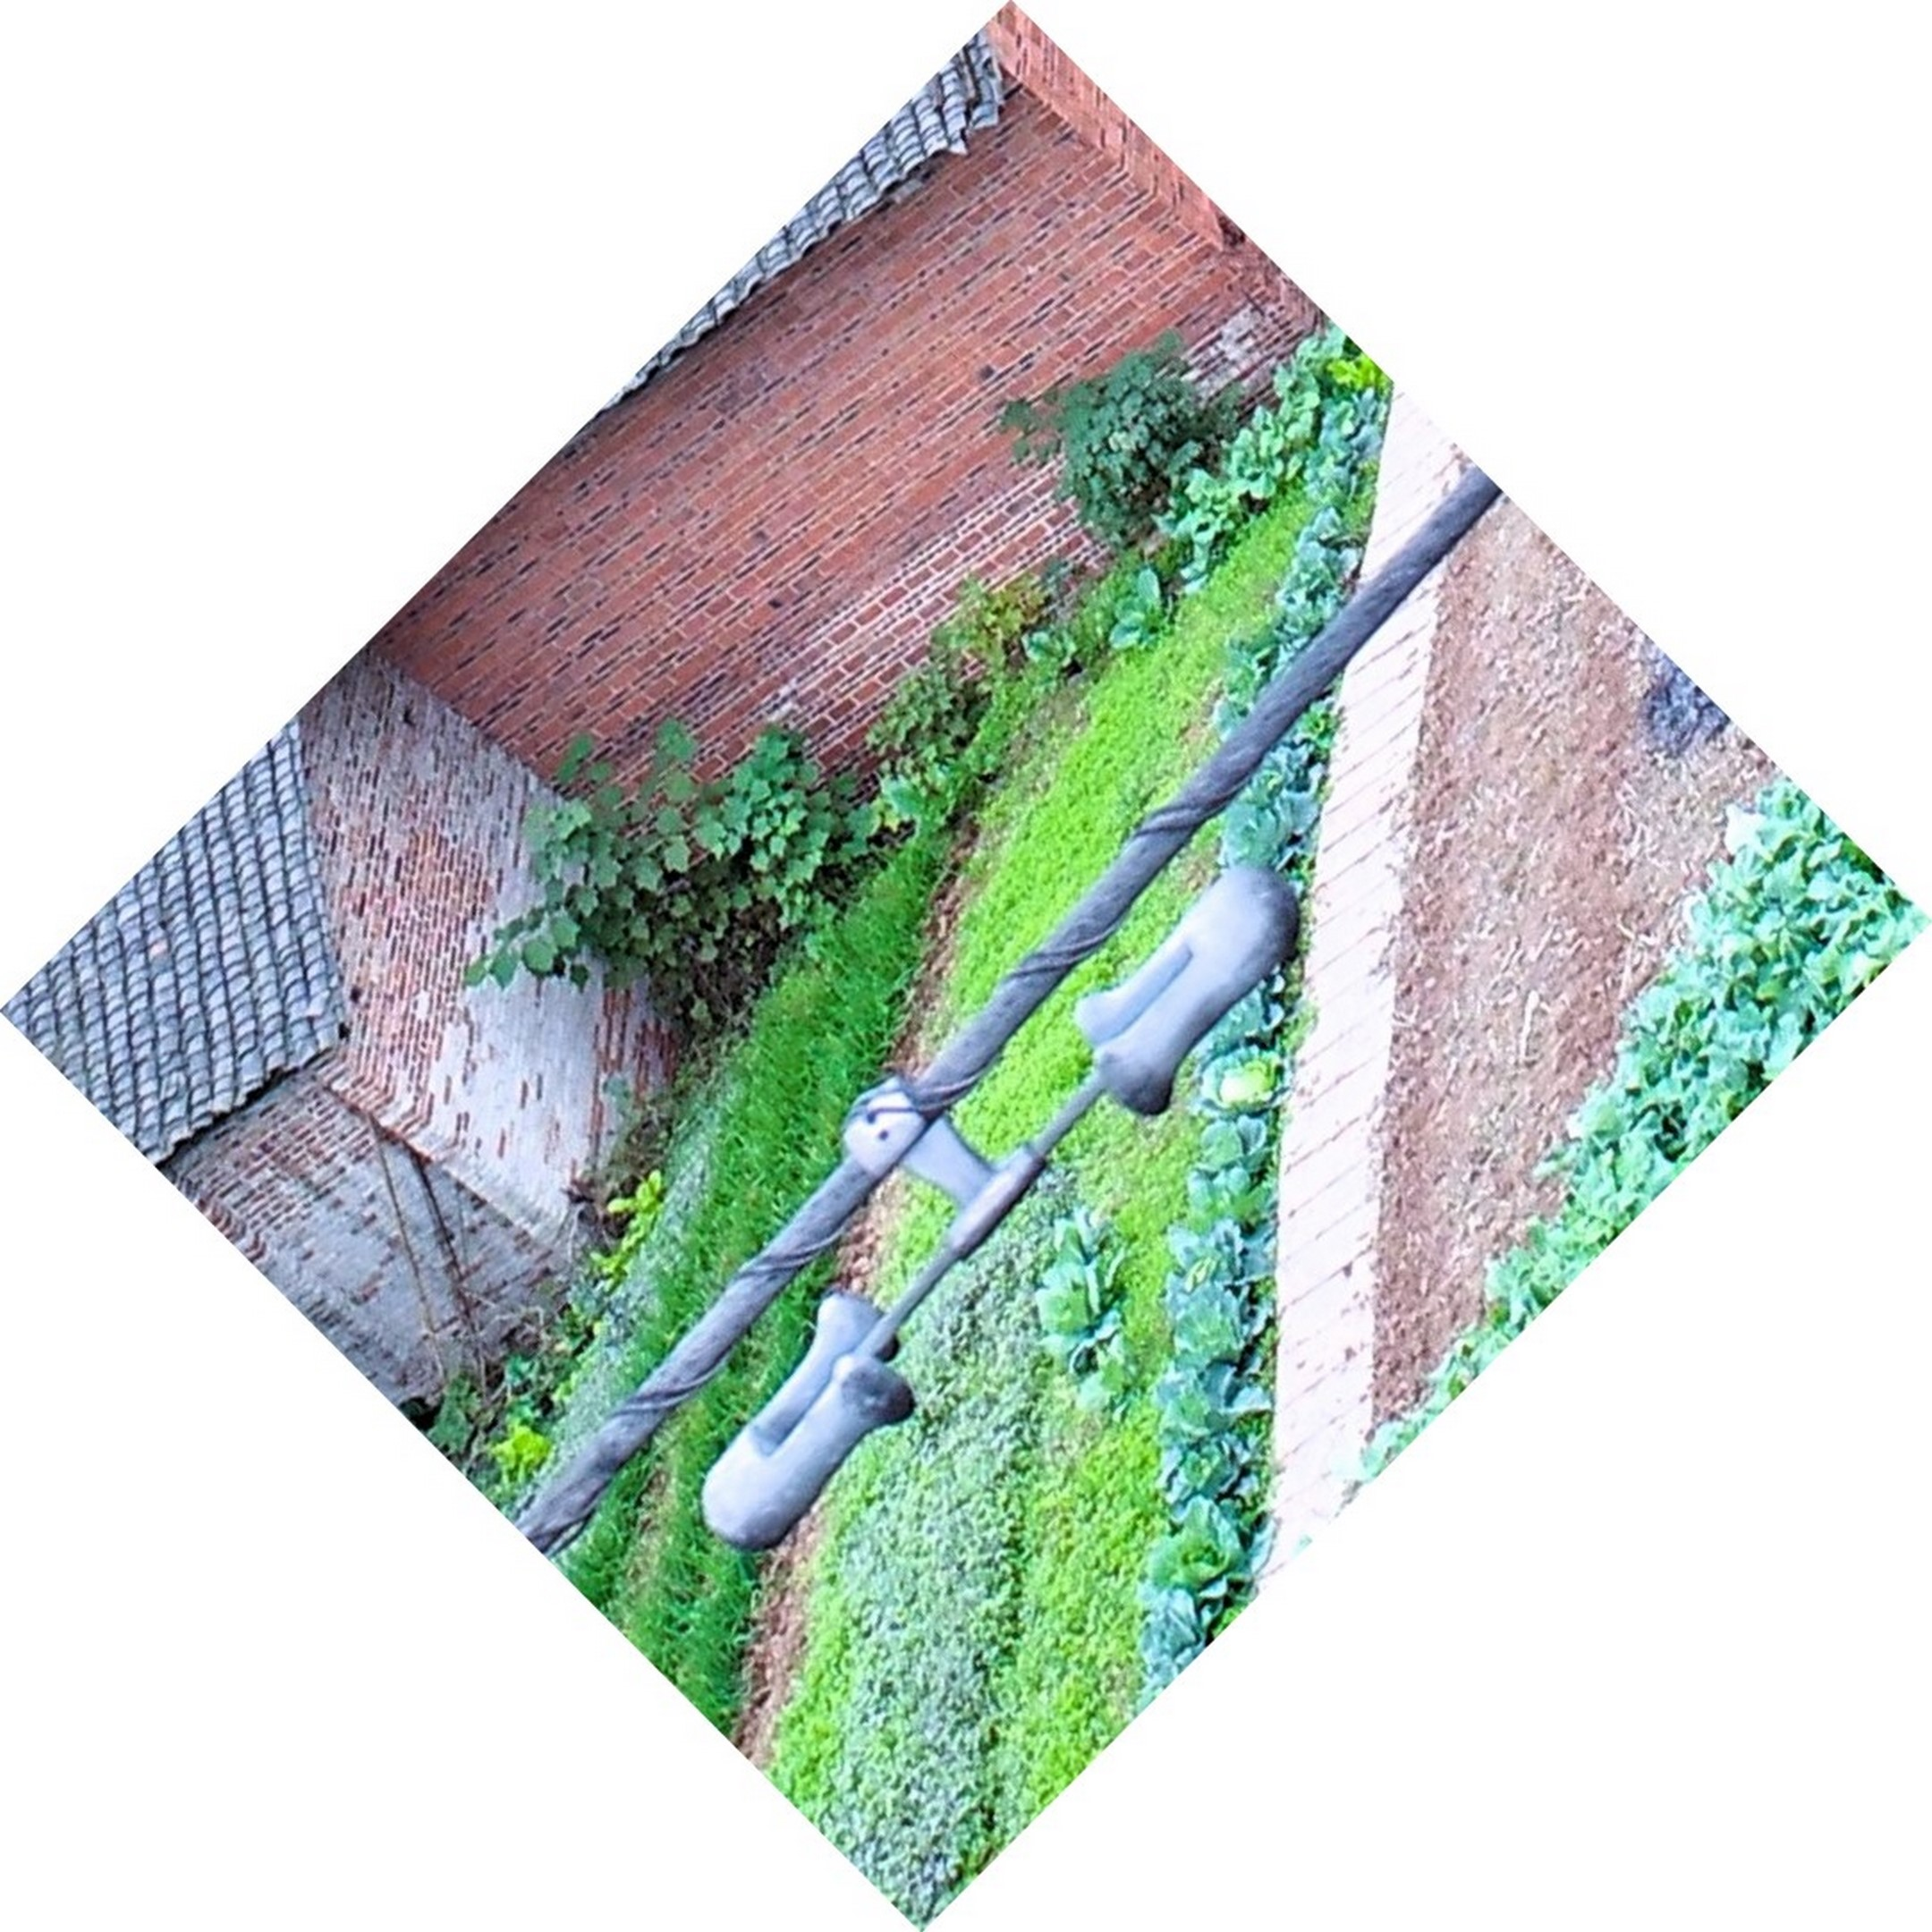Shockproof hammer: (628, 833, 1336, 1557)
